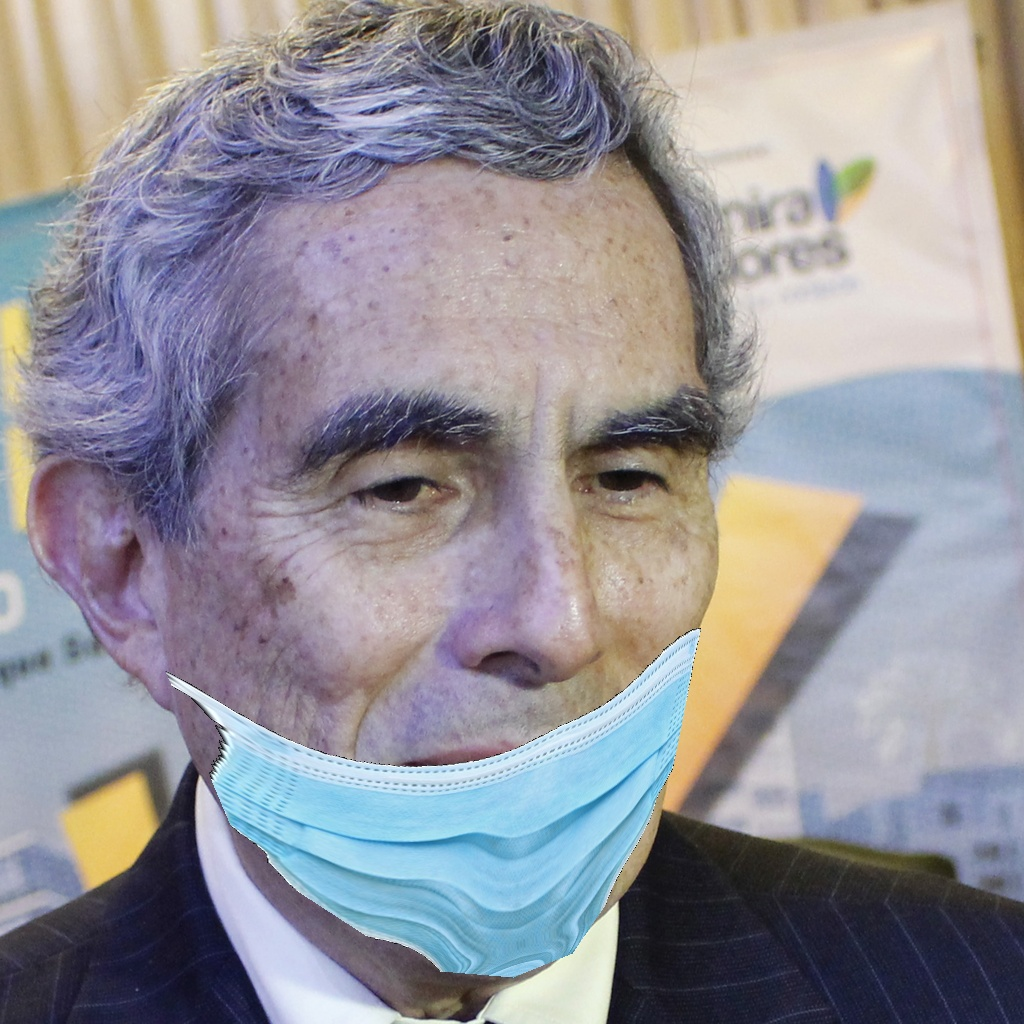mascarilla_mal_puesta: (134, 335, 709, 960)
